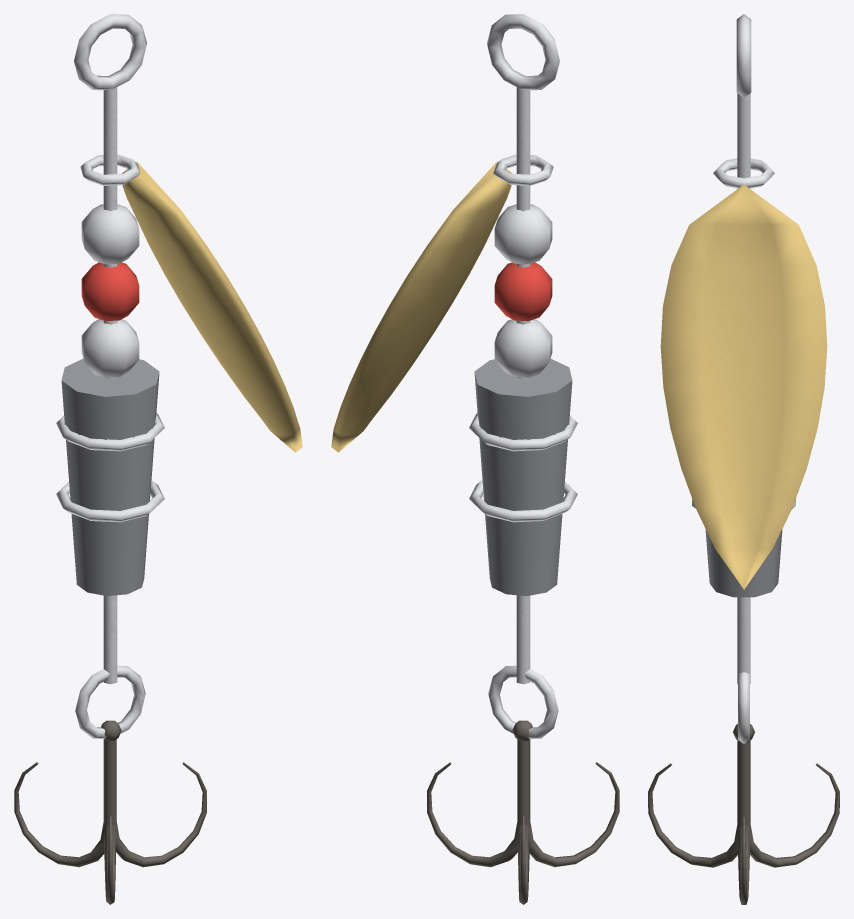
File: lure_spinner.fbx
3 renders of one model, left to right at view 1: azimuth 30°, elevation 25°; view 2: azimuth 150°, elevation 25°; view 3: azimuth 270°, elevation 25°, orthographic.
Parts seen in each view (by area): view 1: lure_spinner; view 2: lure_spinner; view 3: lure_spinner.
Part boxes in pixels (x1,y1,x2,y2): lure_spinner: (14,14,302,904); lure_spinner: (331,14,619,904); lure_spinner: (648,14,839,904).
Size of the model in its own units: 1.78 by 6.08 by 1.23.
Materials: 1 (1 with a texture image).
